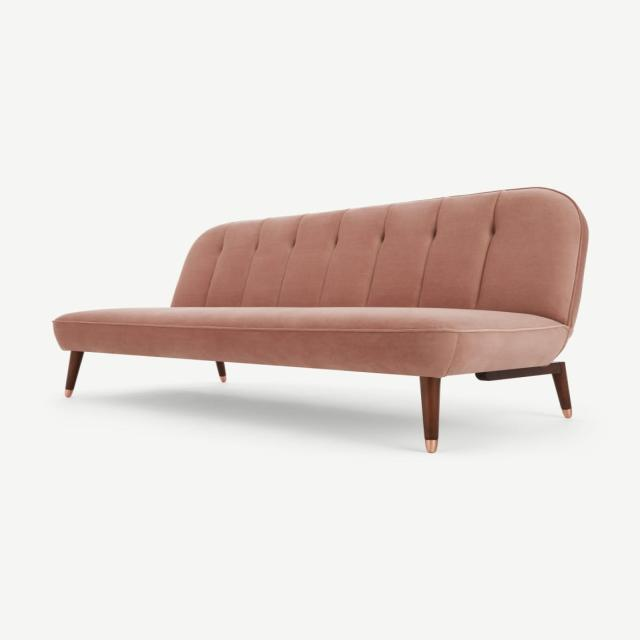Soffa: (51, 185, 590, 454)
